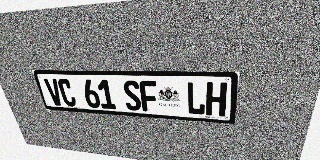1: (96, 80, 116, 109)
6: (81, 79, 101, 108)
C: (56, 79, 77, 107)
F: (139, 81, 159, 112)
H: (206, 82, 227, 117)
L: (186, 82, 206, 115)
S: (122, 80, 142, 111)
V: (43, 78, 64, 106)
